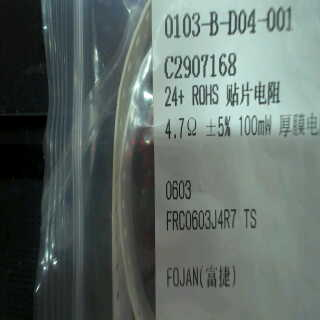4.7R: (161, 114, 199, 143)
